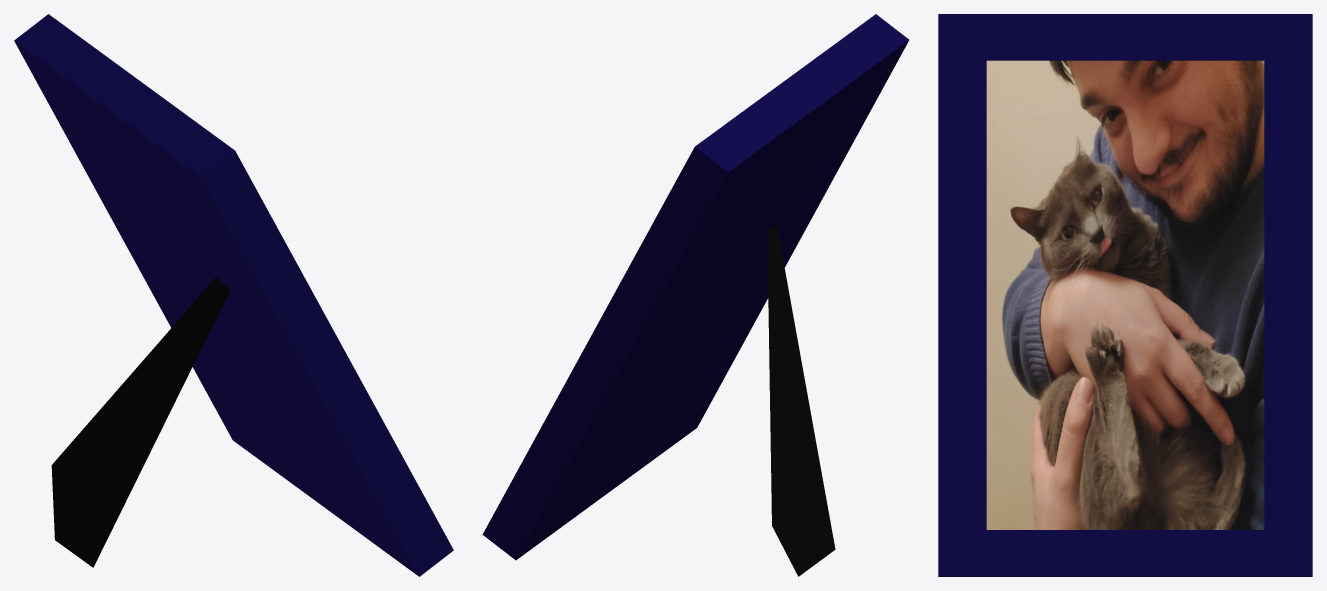
Rendered from small_frame_me_lua.glb.
The picture shows the model from 3 angles, left to right: view 1: azimuth 30°, elevation 25°; view 2: azimuth 150°, elevation 25°; view 3: azimuth 270°, elevation 25°; orthographic projection. The views are drawn at different scales.
Visible parts, largest first — view 1: Cube, Plane; view 2: Cube, Plane; view 3: Cube.
Part boxes in pixels (box(x1,y1,x2,y2)): Cube: box(14, 14, 453, 576); Plane: box(51, 277, 230, 567); Cube: box(482, 14, 909, 560); Plane: box(767, 225, 835, 576); Cube: box(938, 14, 1312, 576).
Bounding box in the file's own units: 0.1663 × 0.2792 × 0.2.
Materials: 3 (1 with a texture image).
